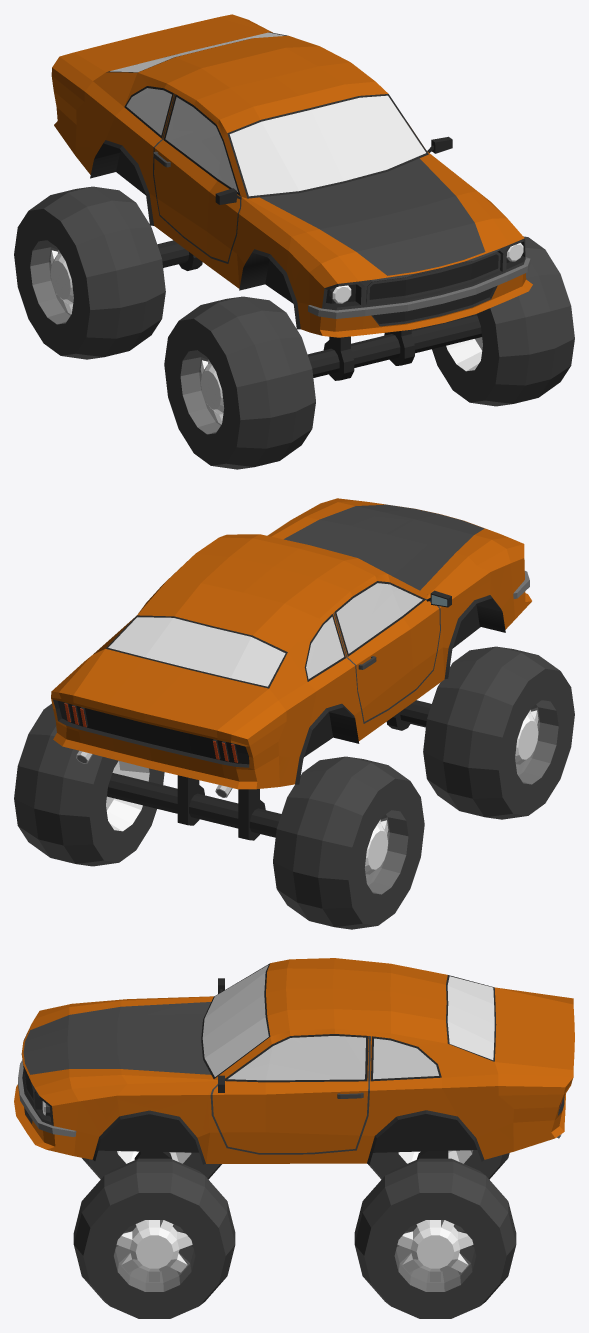
Rendered from Monster Truck_4.fbx.
3 renders of one model, top to bottom at view 1: azimuth 30°, elevation 25°; view 2: azimuth 150°, elevation 25°; view 3: azimuth 270°, elevation 25°, orthographic. The views are drawn at different scales.
Visible parts, largest first — view 1: Monster Truck_4, Monster Truck_4 FR Tire, Monster Truck_4 BR Tire, Monster Truck_4 FL Tire, Monster Truck_4 R Door; view 2: Monster Truck_4, Monster Truck_4 BR Tire, Monster Truck_4 FR Tire, Monster Truck_4 BL Tire, Monster Truck_4 R Door; view 3: Monster Truck_4, Monster Truck_4 BL Tire, Monster Truck_4 FL Tire, Monster Truck_4 L Door, Monster Truck_4 BR Tire, Monster Truck_4 FR Tire.
Part boxes in pixels (x1=…): Monster Truck_4: x1=51, y1=14, x2=532, y2=380; Monster Truck_4 FR Tire: x1=164, y1=296, x2=315, y2=469; Monster Truck_4 BR Tire: x1=14, y1=186, x2=165, y2=359; Monster Truck_4 FL Tire: x1=432, y1=236, x2=574, y2=406; Monster Truck_4 R Door: x1=153, y1=93, x2=241, y2=263; Monster Truck_4: x1=51, y1=498, x2=531, y2=840; Monster Truck_4 BR Tire: x1=273, y1=756, x2=424, y2=929; Monster Truck_4 FR Tire: x1=423, y1=646, x2=574, y2=819; Monster Truck_4 BL Tire: x1=14, y1=703, x2=164, y2=866; Monster Truck_4 R Door: x1=333, y1=581, x2=451, y2=723; Monster Truck_4: x1=14, y1=958, x2=574, y2=1164; Monster Truck_4 BL Tire: x1=354, y1=1158, x2=516, y2=1318; Monster Truck_4 FL Tire: x1=73, y1=1158, x2=235, y2=1318; Monster Truck_4 L Door: x1=210, y1=1034, x2=370, y2=1154; Monster Truck_4 BR Tire: x1=368, y1=1150, x2=509, y2=1179; Monster Truck_4 FR Tire: x1=82, y1=1150, x2=221, y2=1179.
Bounding box in the file's own units: 2.95 × 2.37 × 4.58.
